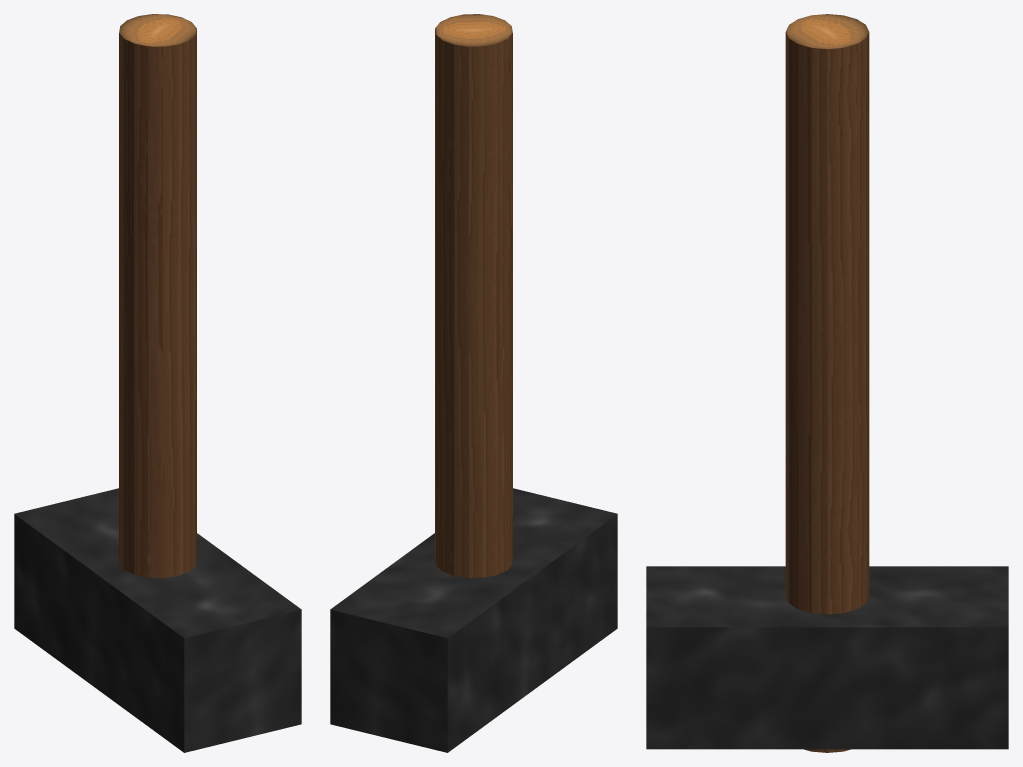
File: hammer.obj
The picture shows the model from 3 angles, left to right: view 1: azimuth 30°, elevation 25°; view 2: azimuth 150°, elevation 25°; view 3: azimuth 270°, elevation 25°; orthographic projection. The views are drawn at different scales.
Visible parts, largest first — view 1: hammer_Cylinder; view 2: hammer_Cylinder; view 3: hammer_Cylinder.
Boxes of the visible parts, left/top/right/bottom form: hammer_Cylinder: left=14, top=14, right=301, bottom=752; hammer_Cylinder: left=330, top=14, right=617, bottom=752; hammer_Cylinder: left=646, top=14, right=1008, bottom=752.
Size of the model in its own units: 0.7978 by 4.29 by 2.
1 material, 1 textured.
